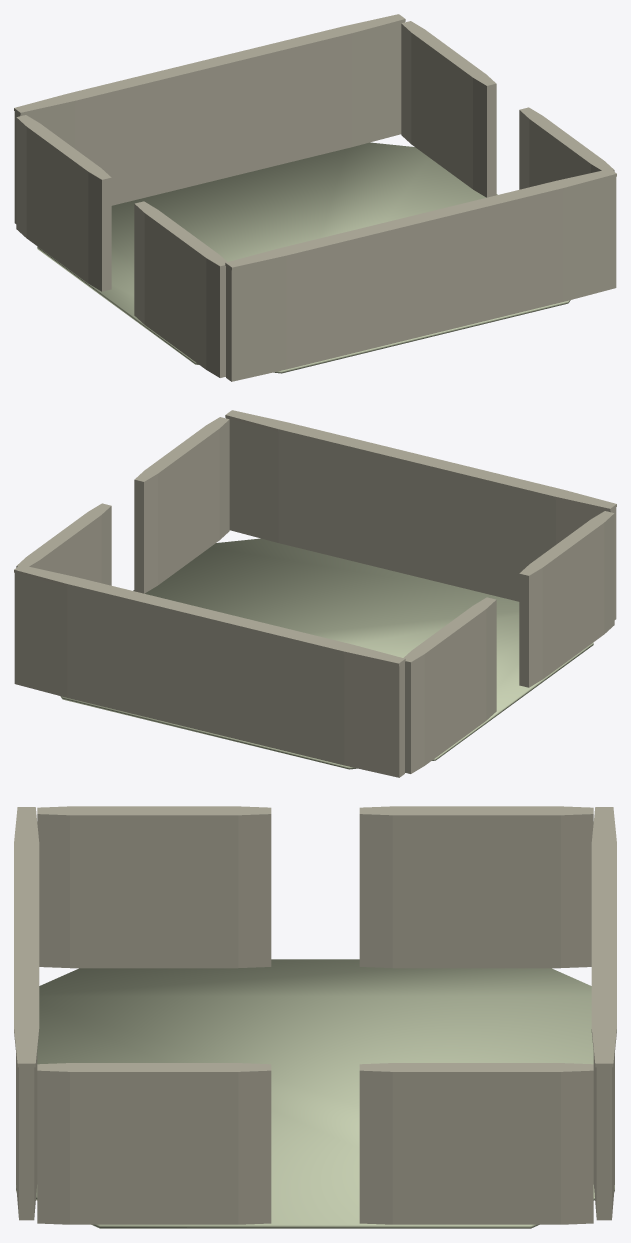
The model's file is R5_Shell.fbx.
3 views of the same model, one above another, from view 1: azimuth 30°, elevation 25°; view 2: azimuth 150°, elevation 25°; view 3: azimuth 270°, elevation 25° (orthographic). The views are drawn at different scales.
Visible parts, largest first — view 1: R5_Shell; view 2: R5_Shell; view 3: R5_Shell.
Part boxes in pixels (x1,y1,x2,y2): R5_Shell: (14,14,616,381); R5_Shell: (14,410,616,777); R5_Shell: (14,806,616,1228).
Bounding box in the file's own units: 59.6 × 16.8 × 57.2.
